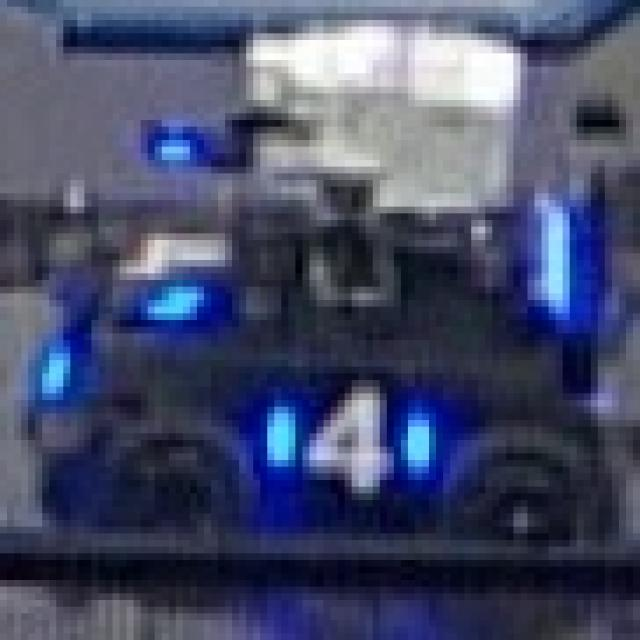B4: (253, 367, 443, 500), (113, 200, 225, 320)
